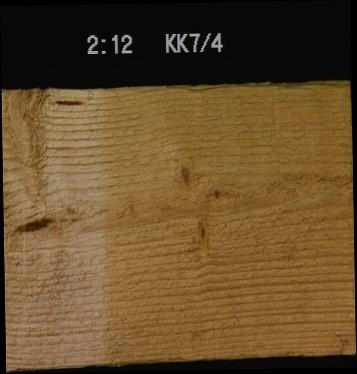sound_knot: (188, 211, 213, 252), (173, 157, 197, 191)
